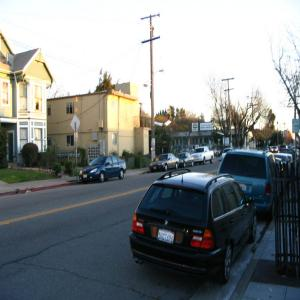Vehicle-registration-plate: (160, 229, 176, 246), (240, 185, 248, 193)
